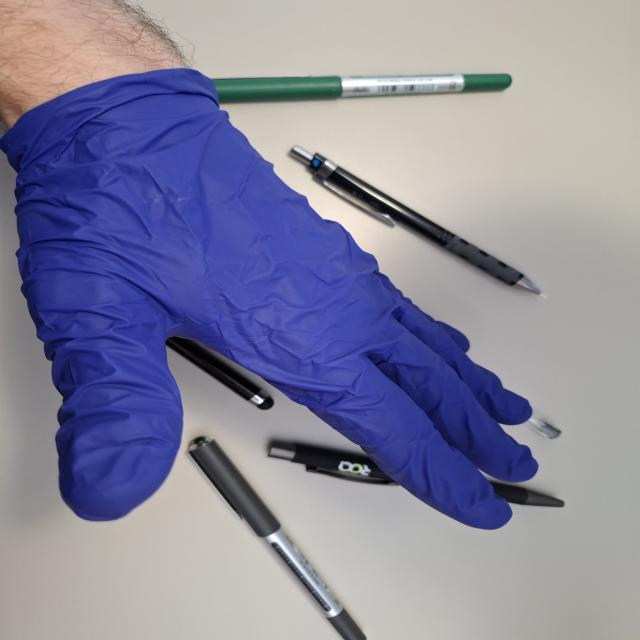glove_on: (1, 62, 543, 531)
